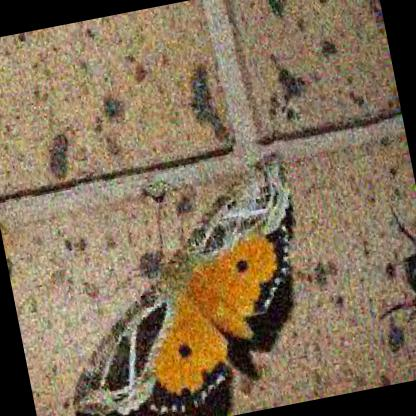fruit sucking moth: (71, 151, 292, 416)
